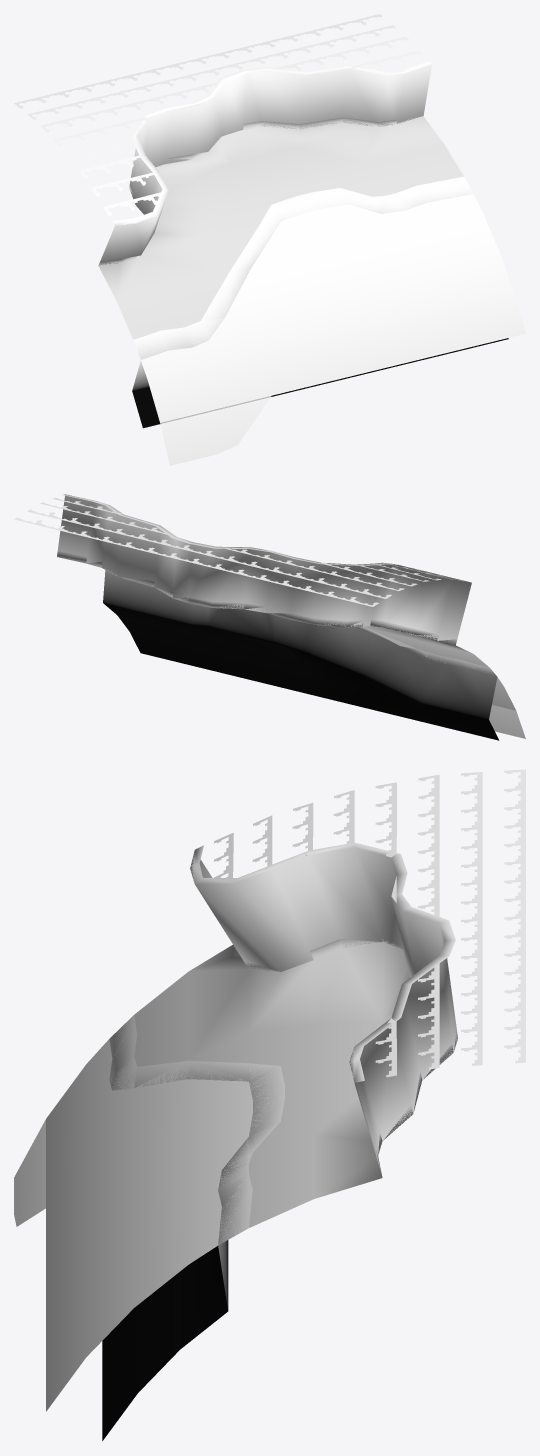
Rendered from grd_Mse_s_2.dae.
3 views of the same model, one above another, from view 1: azimuth 30°, elevation 25°; view 2: azimuth 150°, elevation 25°; view 3: azimuth 270°, elevation 25° (orthographic). The views are drawn at different scales.
Parts seen in each view (by area): view 1: ocean_4_0, beach_0_0, wave_5_0, cliff_2_0, beach_1_0, grass_3_0; view 2: beach_1_0, cliff_2_0, grass_3_0, beach_0_0, wave_5_0, ocean_4_0; view 3: ocean_4_0, beach_0_0, cliff_2_0, wave_5_0, beach_1_0, grass_3_0.
Boxes of the visible parts, box(x1,y1,x2,y2) form: ocean_4_0: box(138, 178, 525, 422); beach_0_0: box(98, 116, 463, 339); wave_5_0: box(141, 193, 512, 465); cliff_2_0: box(98, 61, 431, 265); beach_1_0: box(132, 176, 508, 428); grass_3_0: box(14, 14, 424, 225); beach_1_0: box(103, 570, 499, 740); cliff_2_0: box(57, 494, 471, 644); grass_3_0: box(14, 495, 463, 606); beach_0_0: box(57, 551, 489, 667); wave_5_0: box(401, 646, 525, 738); ocean_4_0: box(366, 628, 515, 710); ocean_4_0: box(46, 1021, 284, 1411); beach_0_0: box(134, 939, 457, 1227); cliff_2_0: box(190, 842, 457, 1166); wave_5_0: box(14, 1041, 281, 1355); beach_1_0: box(102, 1015, 284, 1440); grass_3_0: box(190, 769, 525, 1077).
Size of the model in its own units: 512 by 332 by 378.
Materials: 6 (1 with a texture image).
